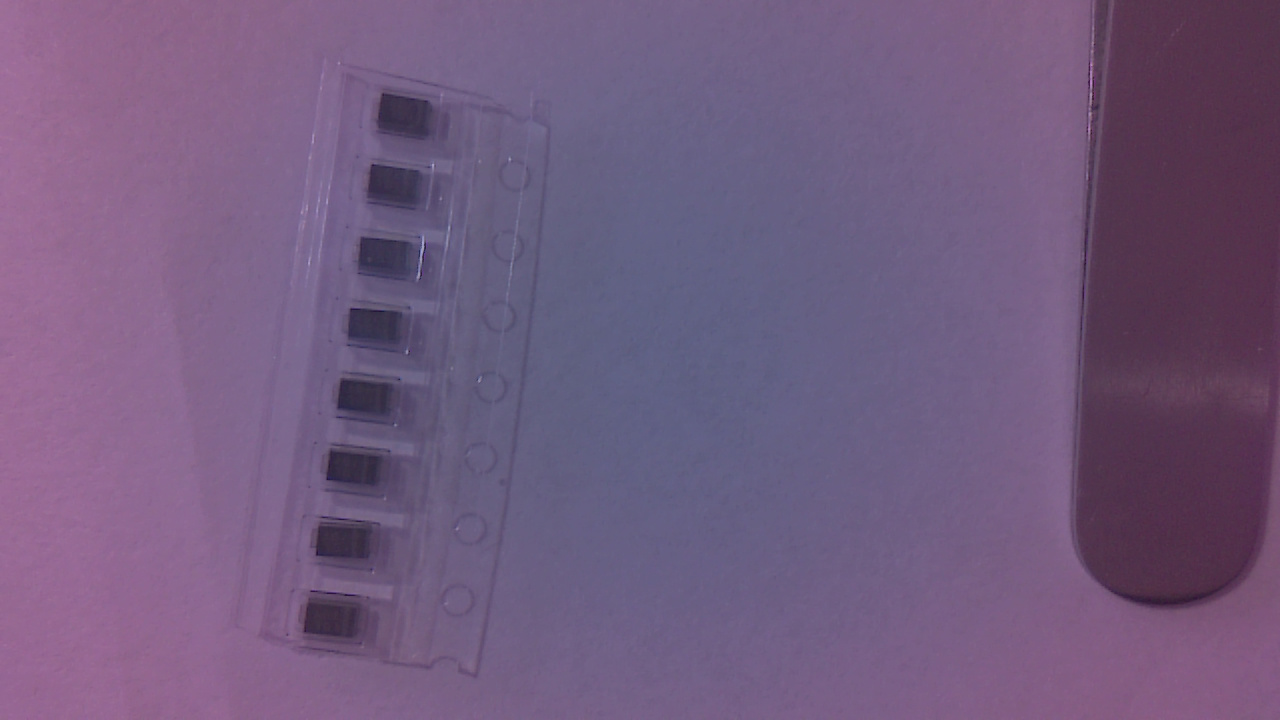Diode: (300, 601, 371, 645), (375, 99, 447, 142), (312, 522, 383, 564), (322, 451, 394, 492), (366, 168, 433, 210), (330, 381, 400, 420), (353, 242, 418, 283), (345, 312, 418, 348)
